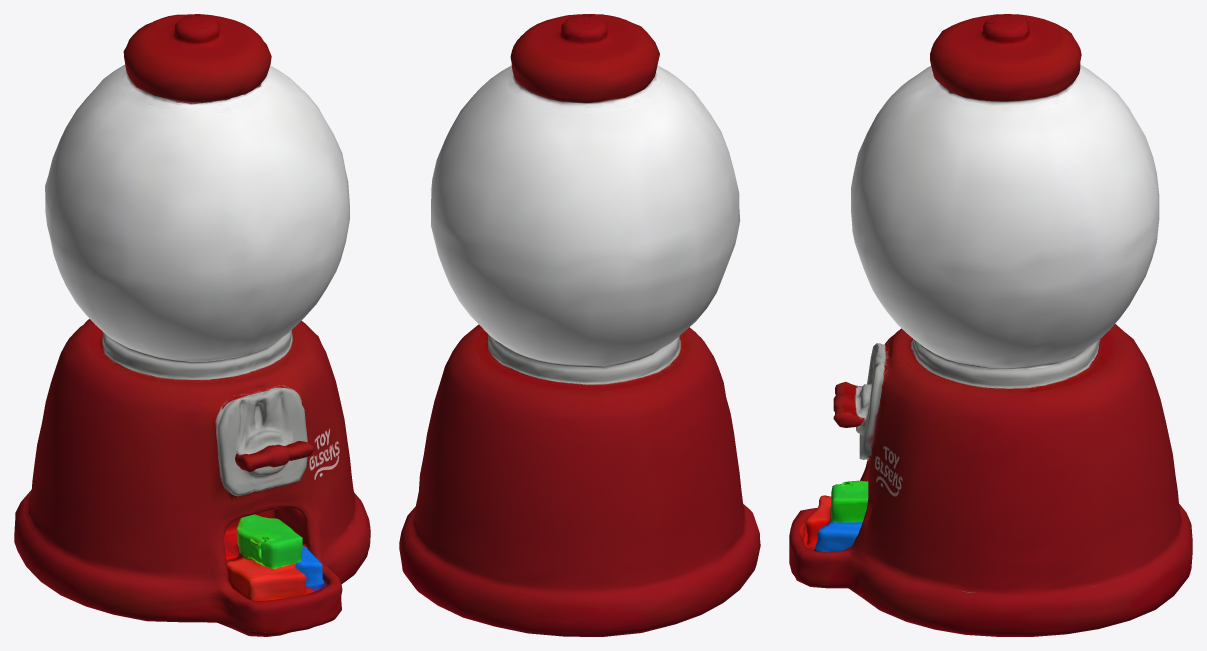
The model's file is Meshy_AI_Block_Gumball_Machine_0608222210_texture.fbx.
3 renders of one model, left to right at view 1: azimuth 30°, elevation 25°; view 2: azimuth 150°, elevation 25°; view 3: azimuth 270°, elevation 25°, orthographic. The views are drawn at different scales.
Visible parts, largest first — view 1: Mesh_0; view 2: Mesh_0; view 3: Mesh_0.
Boxes of the visible parts, x1,y1,x2,y2 form: Mesh_0: (14, 14, 370, 636); Mesh_0: (399, 14, 760, 636); Mesh_0: (789, 14, 1192, 636).
Size of the model in its own units: 71.7 by 120 by 80.57.
Materials: 1 (1 with a texture image).
